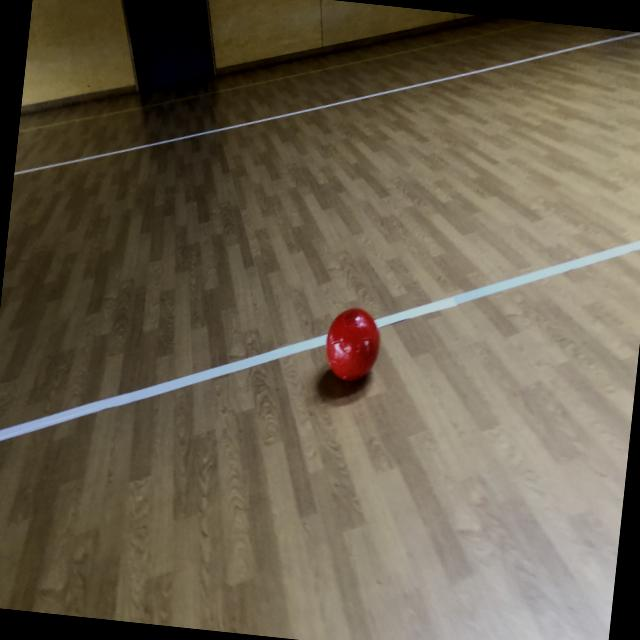red_ball: (322, 305, 384, 385)
